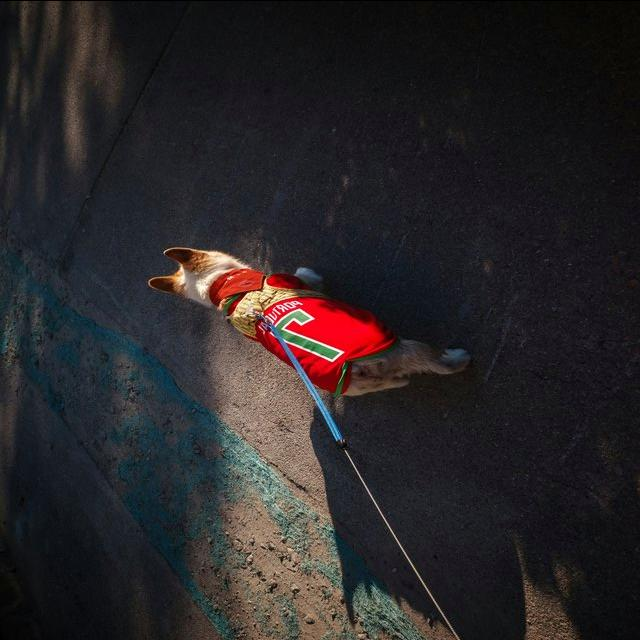corgi: (146, 244, 471, 397)
